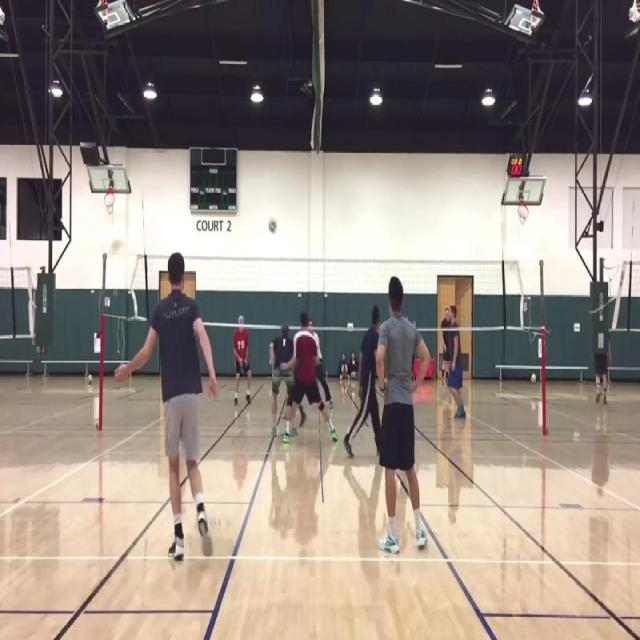volleyball: (268, 219, 276, 232)
